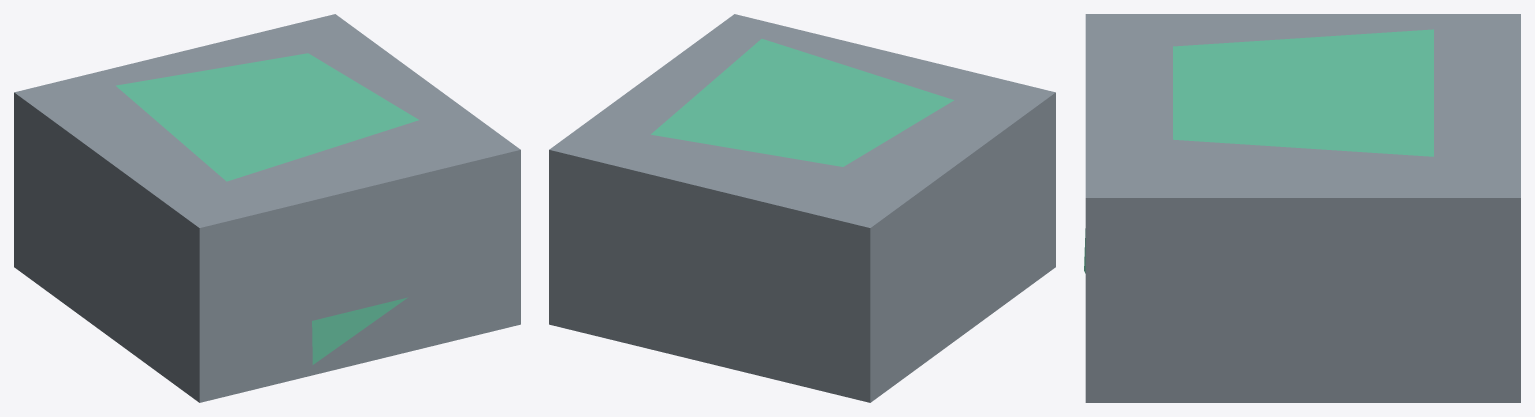
The model's file is CO_WarFactory_LOD1.glb.
3 views of the same model, side by side, from view 1: azimuth 30°, elevation 25°; view 2: azimuth 150°, elevation 25°; view 3: azimuth 270°, elevation 25° (orthographic). The views are drawn at different scales.
Visible parts, largest first — view 1: EntranceGate; view 2: EntranceGate; view 3: EntranceGate.
Boxes of the visible parts, bbox=[...] form: EntranceGate: bbox=[14, 14, 520, 402]; EntranceGate: bbox=[549, 14, 1055, 402]; EntranceGate: bbox=[1084, 14, 1520, 402].
Bounding box in the file's own units: 800 × 459 × 803.
